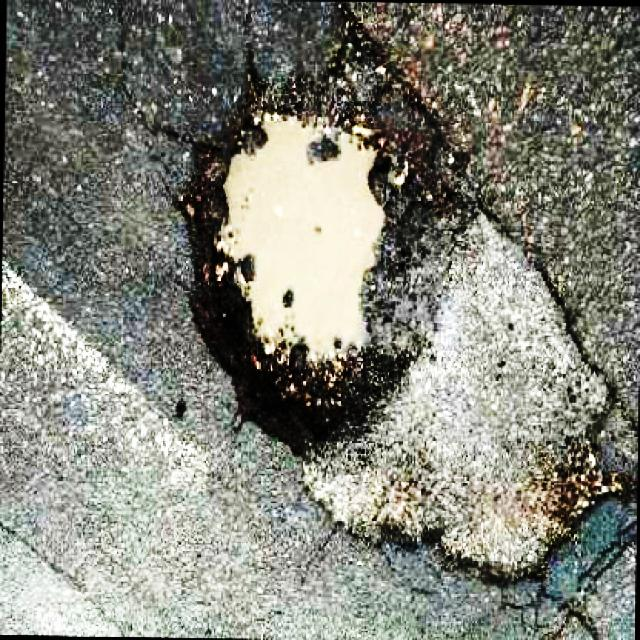pothole: (289, 196, 640, 584), (163, 48, 452, 452)
